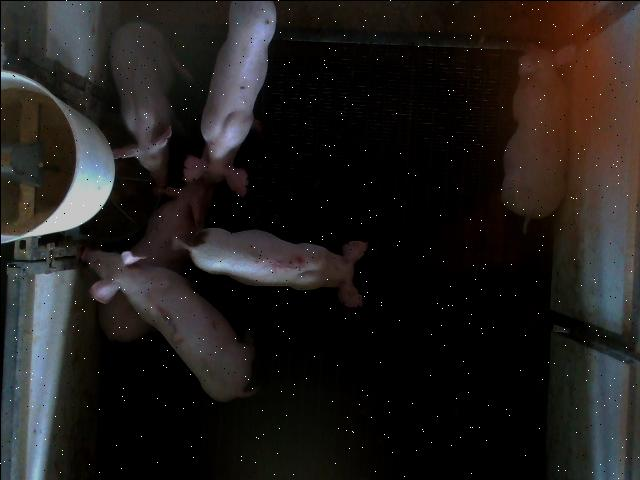pig-3: (81, 248, 255, 401)
pig-5: (181, 228, 366, 306)
